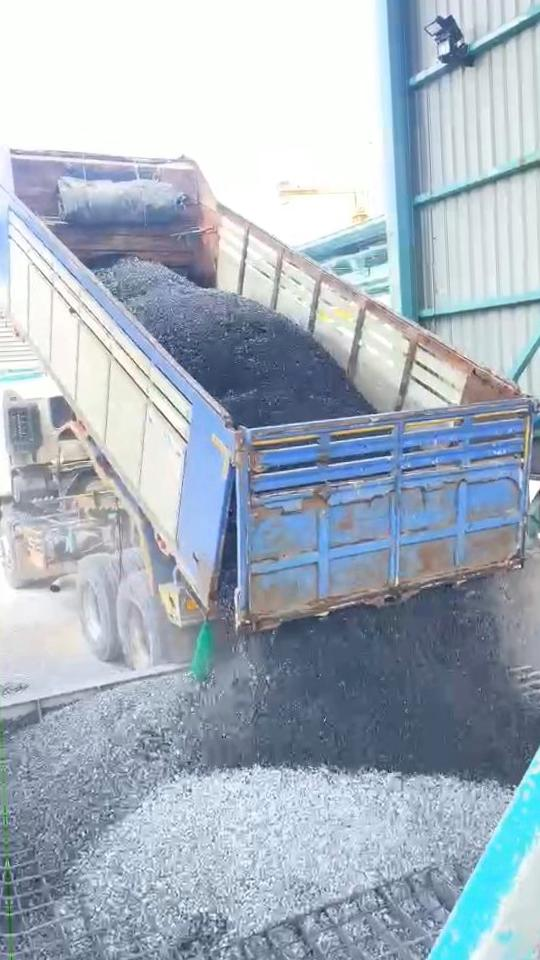gravel: (7, 589, 540, 950), (96, 257, 374, 427), (219, 497, 237, 619)
